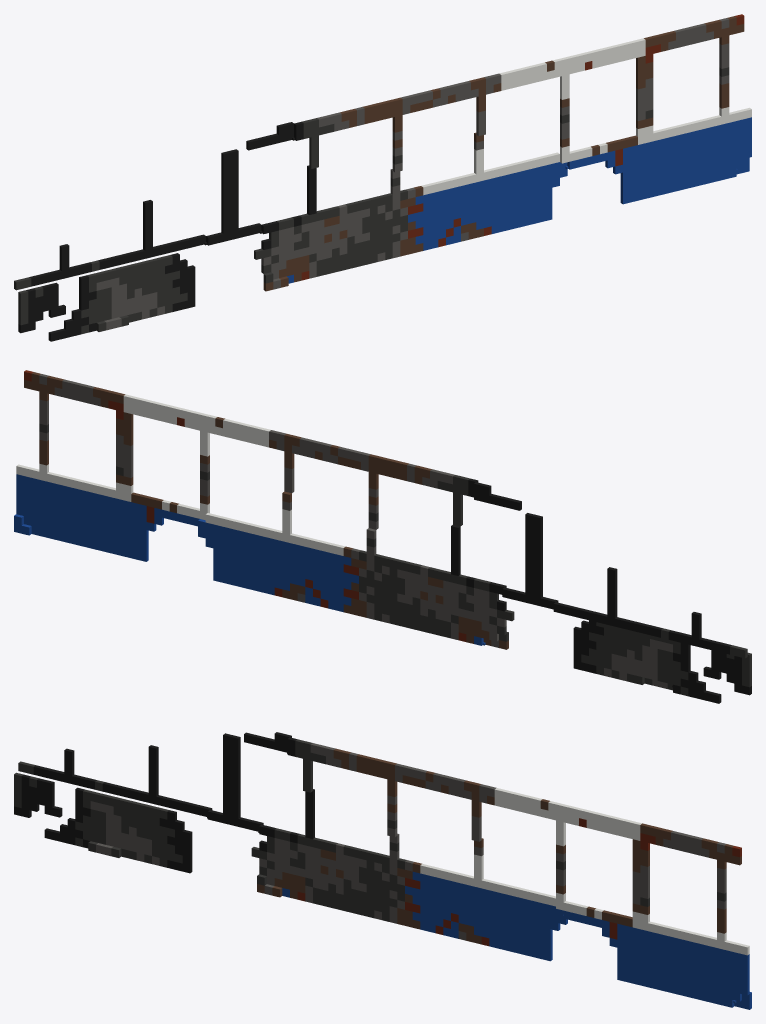
Rendered from burnt_out_bus_far_side.glb.
3 views of the same model, one above another, from view 1: azimuth 30°, elevation 25°; view 2: azimuth 150°, elevation 25°; view 3: azimuth 330°, elevation 25° (orthographic).
Parts seen in each view (by area): view 1: body:compound; view 2: body:compound; view 3: body:compound.
Part boxes in pixels (bbox=[...]): body:compound: bbox=[14, 14, 751, 341]; body:compound: bbox=[14, 370, 751, 703]; body:compound: bbox=[14, 732, 751, 1009].
Bounding box in the file's own units: 12 × 2.5 × 0.25.
